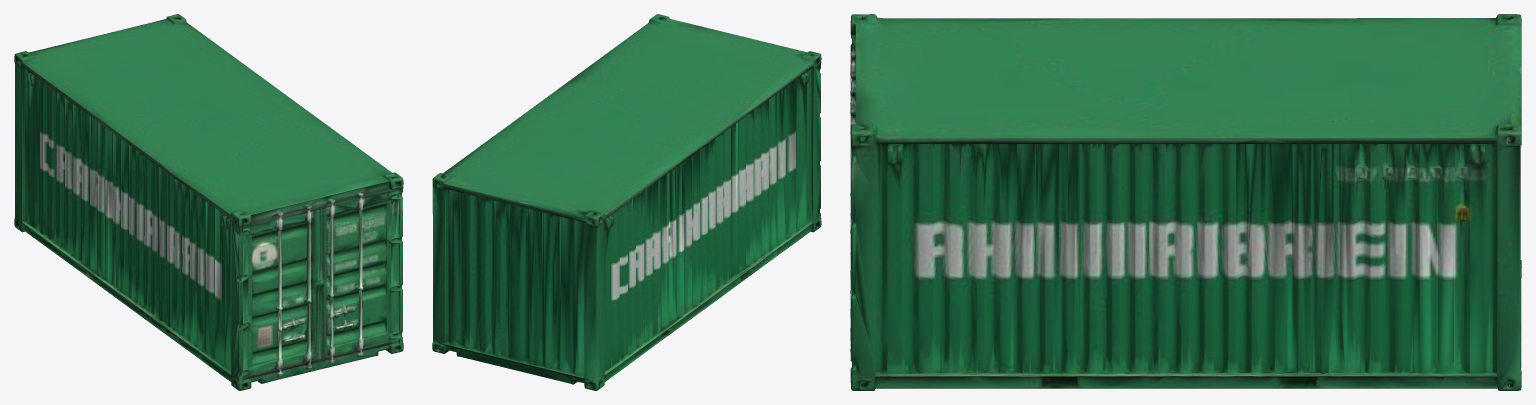
The model's file is 0-evergreen-container-lowres.glb.
3 views of the same model, side by side, from view 1: azimuth 30°, elevation 25°; view 2: azimuth 150°, elevation 25°; view 3: azimuth 270°, elevation 25° (orthographic). The views are drawn at different scales.
Visible parts, largest first — view 1: node_0; view 2: node_0; view 3: node_0.
Boxes of the visible parts, x1,y1,x2,y2 form: node_0: (14,14,403,390); node_0: (432,14,821,390); node_0: (850,14,1521,390).
Size of the model in its own units: 0.4372 by 0.4397 by 1.03.
1 material, 1 textured.
